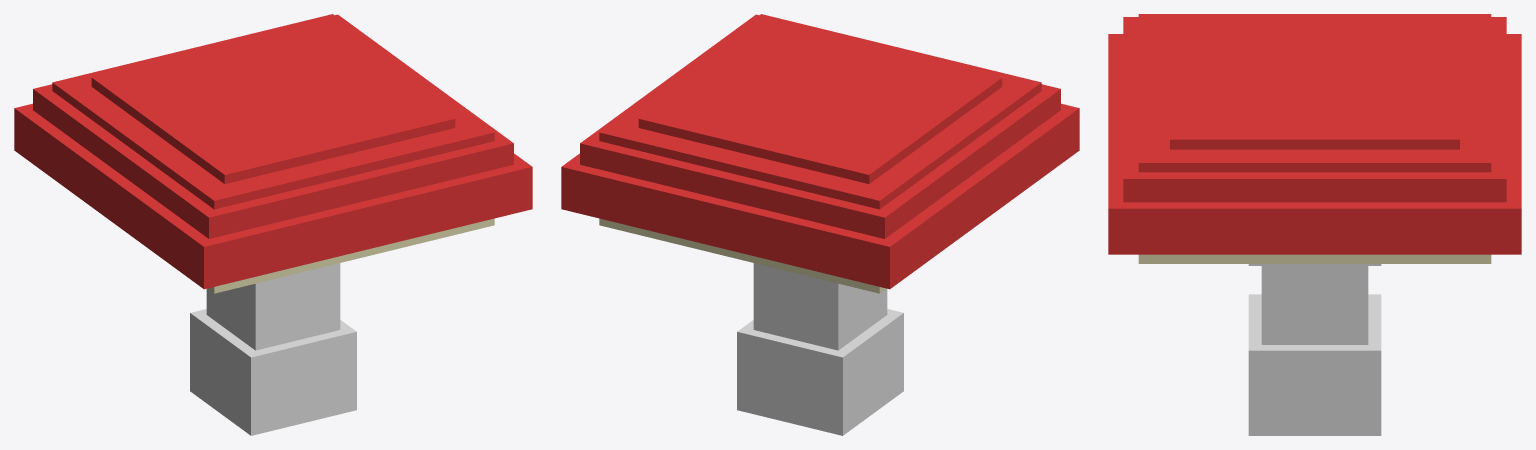
File: Red Mushroom.glb
The picture shows the model from 3 angles, left to right: view 1: azimuth 30°, elevation 25°; view 2: azimuth 150°, elevation 25°; view 3: azimuth 270°, elevation 25°; orthographic projection. The views are drawn at different scales.
Visible parts, largest first — view 1: Cube.007, Cube.002, Cube, Cube.004; view 2: Cube.007, Cube.002, Cube, Cube.004; view 3: Cube.007, Cube.002, Cube, Cube.004.
Boxes of the visible parts, x1,y1,x2,y2 form: Cube.007: (14,14,532,289); Cube.002: (190,309,356,435); Cube: (206,263,340,350); Cube.004: (207,218,494,293); Cube.007: (561,14,1079,289); Cube.002: (737,309,903,435); Cube: (753,263,887,350); Cube.004: (599,218,886,293); Cube.007: (1108,14,1521,254); Cube.002: (1248,294,1381,435); Cube: (1261,266,1368,344); Cube.004: (1138,254,1491,263).
Size of the model in its own units: 0.4059 by 0.3573 by 0.4059.
